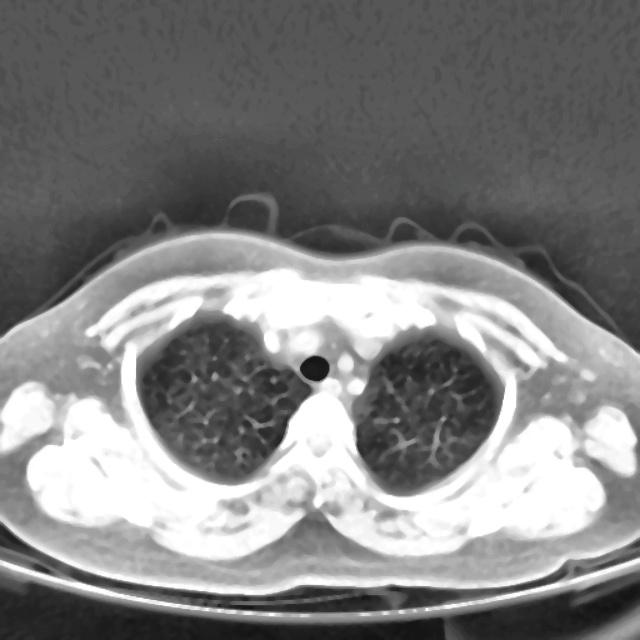covid: (1, 214, 638, 598)
